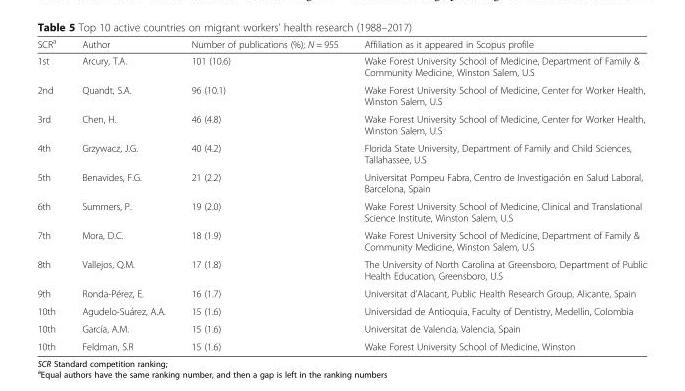table: (36, 36, 646, 351)
table column: (350, 36, 646, 351), (177, 36, 350, 351), (68, 36, 177, 351), (36, 36, 68, 351)
table column header: (36, 36, 646, 52)
table row: (36, 167, 646, 197), (36, 80, 646, 109), (36, 109, 646, 138), (36, 138, 646, 167), (36, 197, 646, 226), (36, 226, 646, 255), (36, 255, 646, 284), (36, 52, 646, 80), (36, 301, 646, 319), (36, 319, 646, 337), (36, 284, 646, 301), (36, 36, 646, 52), (36, 337, 646, 351)
